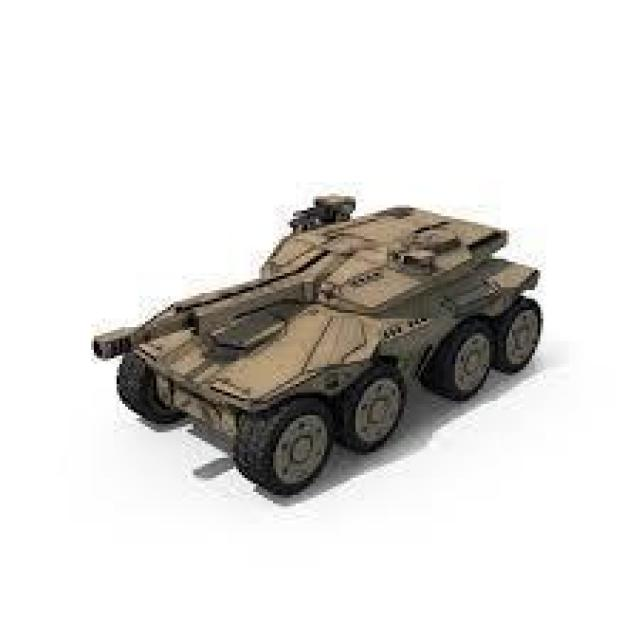Tanks: (95, 195, 550, 499)
